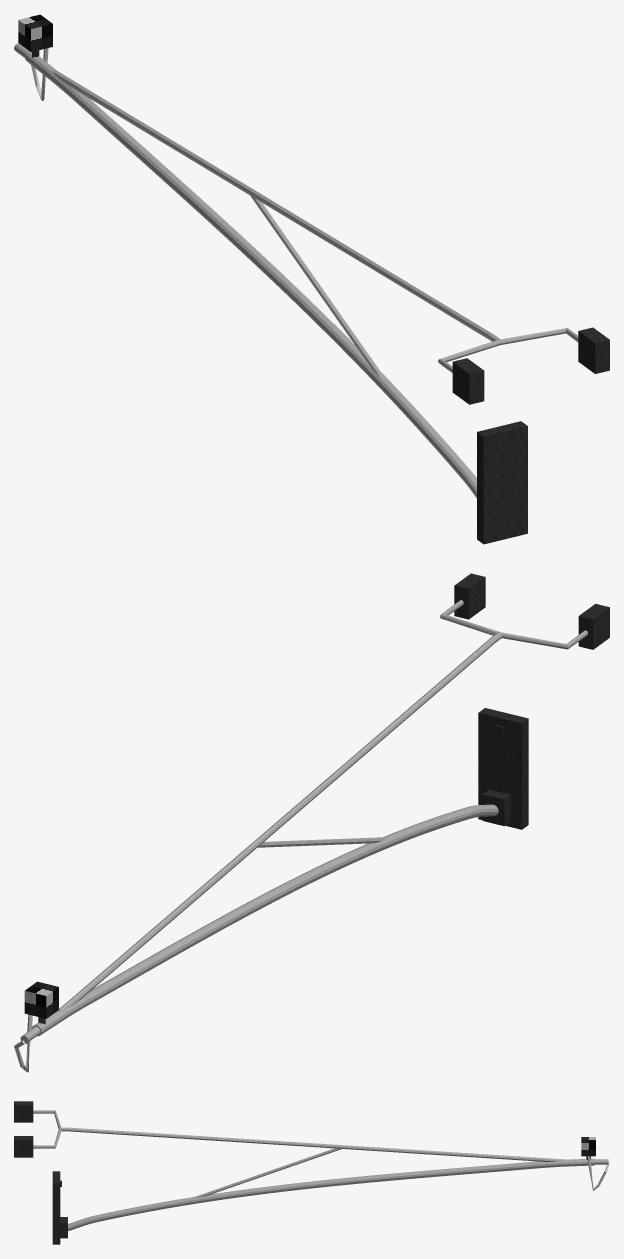
The model's file is arm_7_straight_wired.obj.
The picture shows the model from 3 angles, top to bottom: view 1: azimuth 30°, elevation 25°; view 2: azimuth 150°, elevation 25°; view 3: azimuth 270°, elevation 25°; orthographic projection. The views are drawn at different scales.
Visible parts, largest first — view 1: pole_light_mount_7_straight_wired; view 2: pole_light_mount_7_straight_wired; view 3: pole_light_mount_7_straight_wired.
Part boxes in pixels (x1=…): pole_light_mount_7_straight_wired: x1=14, y1=14, x2=609, y2=544; pole_light_mount_7_straight_wired: x1=14, y1=573, x2=609, y2=1072; pole_light_mount_7_straight_wired: x1=14, y1=1101, x2=609, y2=1244.
Size of the model in its own units: 1.19 by 1.68 by 7.7.
